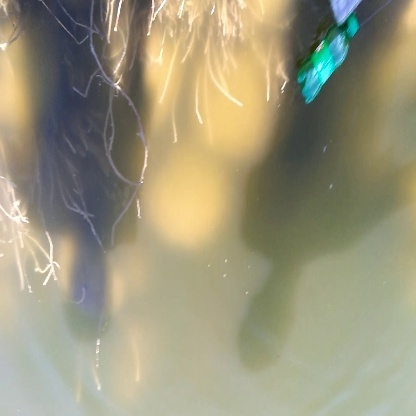bottle: (292, 20, 367, 117)
